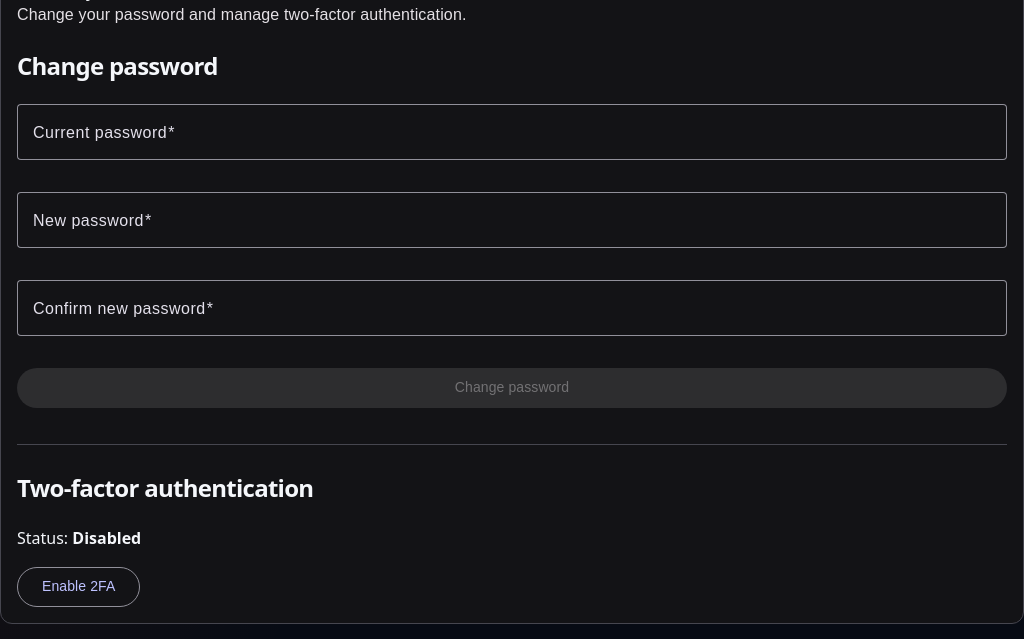
Test: ProfileComponent › associates validation output with password and enrollment fields
The width and height of the screenshot is (1024, 639).
(page scrolled)
Submit the form with test id "password-form", box left=17, top=104, right=1007, bottom=408
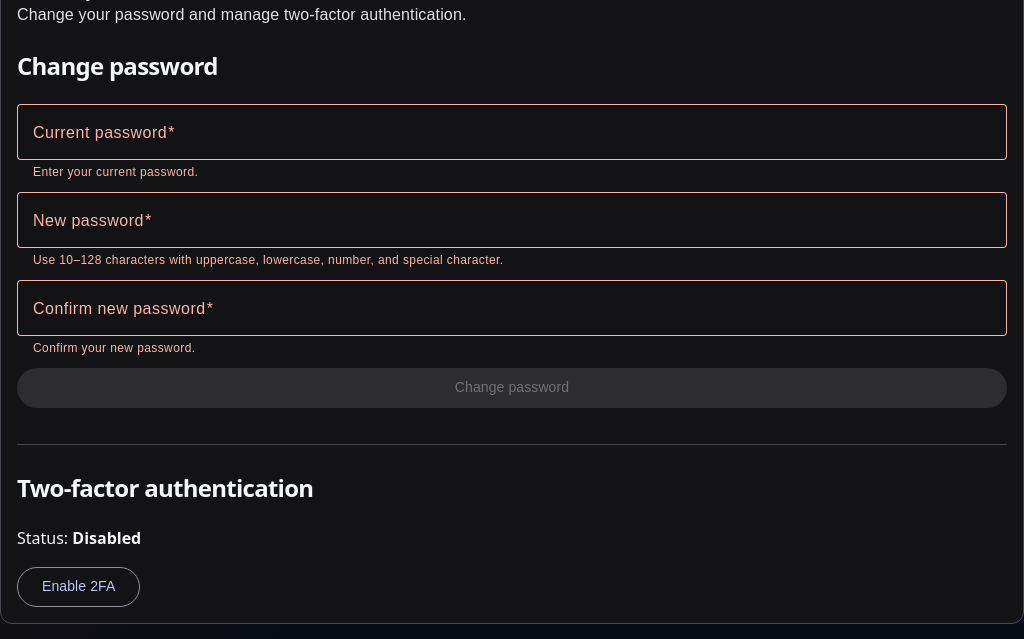
Result: the element with test id "current-password" shows "Enter your current password." at left=33, top=165, right=198, bottom=179
Result: the element with test id "new-password" shows "Use 10–128 characters" at left=33, top=253, right=504, bottom=267
Result: the element with test id "confirm-new-password" shows "Confirm your new password." at left=33, top=341, right=196, bottom=355
Click the button with test id "setup-2fa". click: (79, 587)
box: left=17, top=567, right=140, bottom=607
(page scrolled)
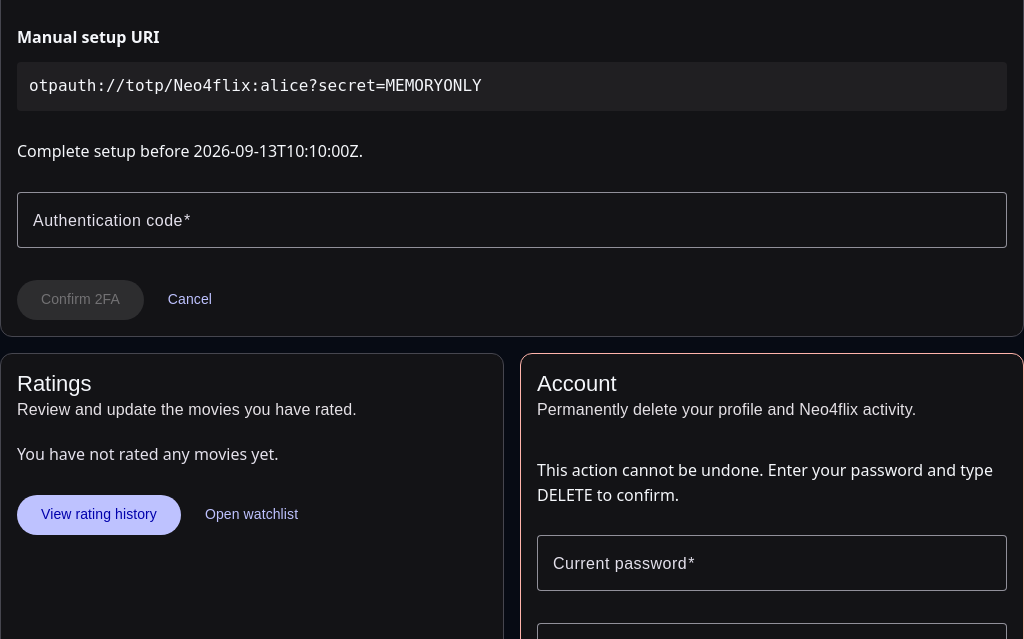
Submit the form with test id "confirm-totp-form", box left=17, top=192, right=1007, bottom=320
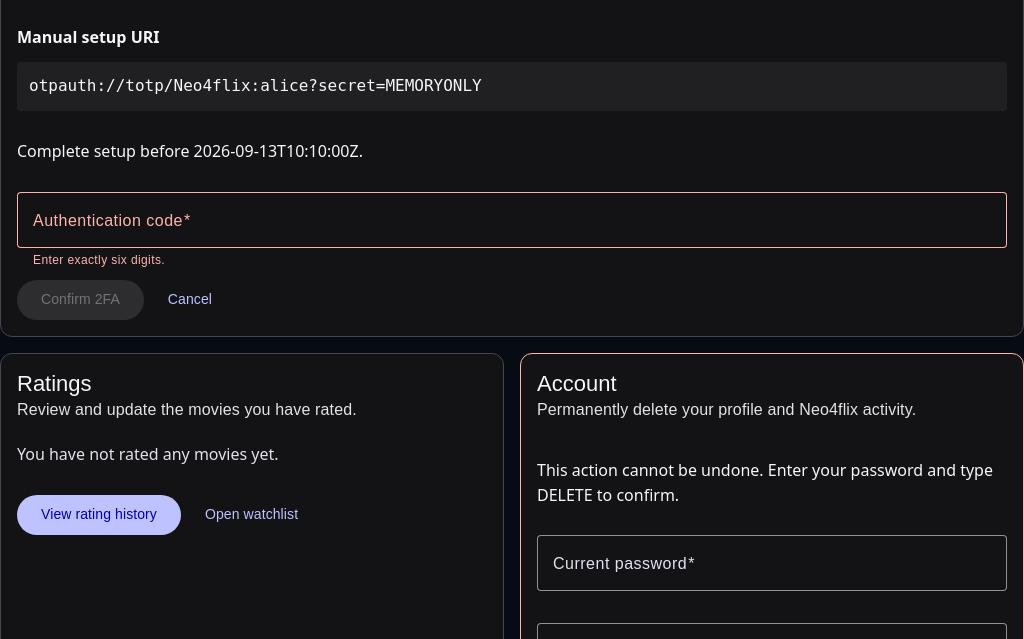
Result: the element with test id "confirm-totp-code" shows "Enter exactly six digits." at left=33, top=253, right=165, bottom=267
